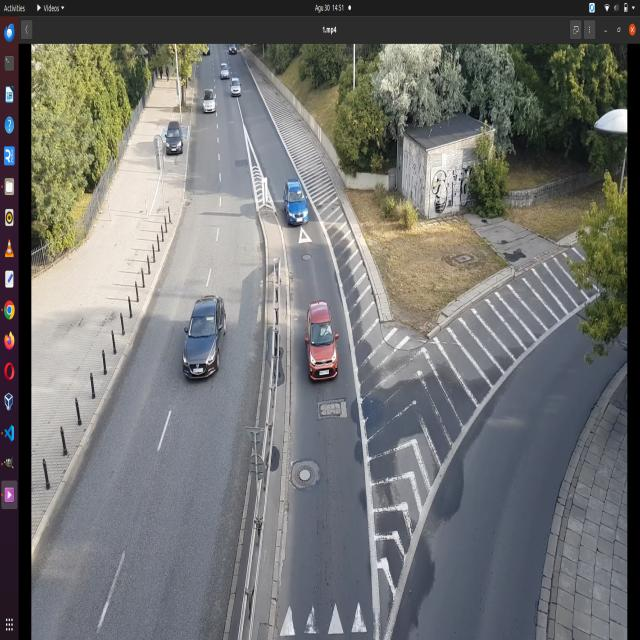person_with_seatbelt: (316, 322, 333, 342)
